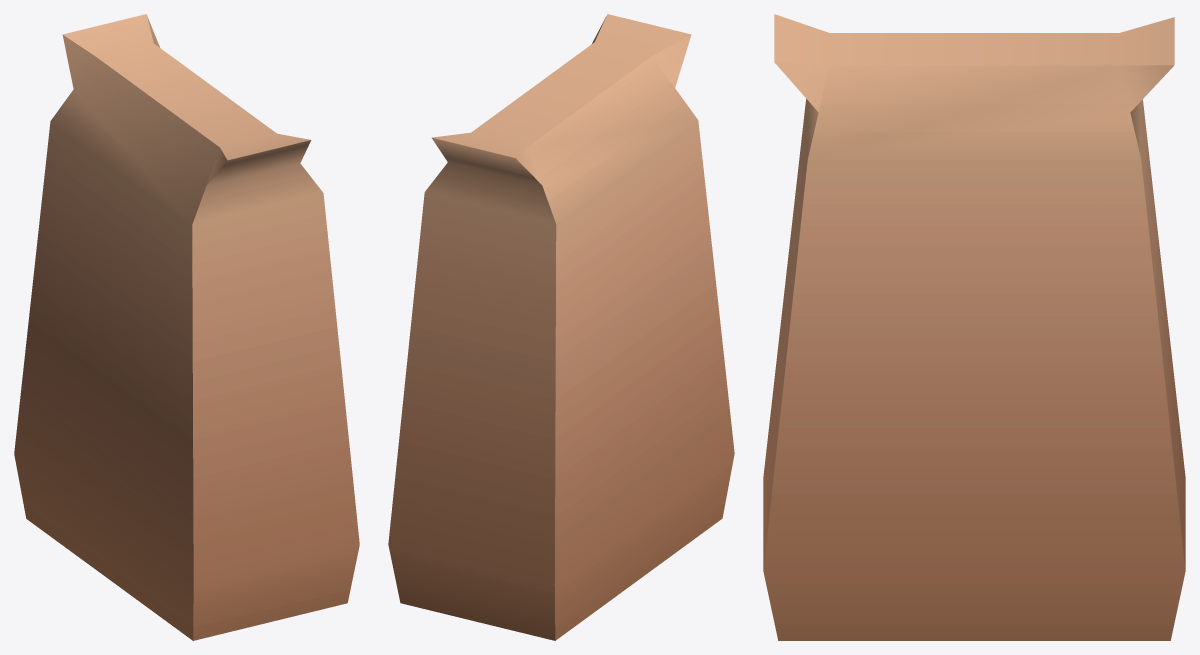
File: bag.cd2dd97ea1.glb
The picture shows the model from 3 angles, left to right: view 1: azimuth 30°, elevation 25°; view 2: azimuth 150°, elevation 25°; view 3: azimuth 270°, elevation 25°; orthographic projection. The views are drawn at different scales.
Parts seen in each view (by area): view 1: bag; view 2: bag; view 3: bag.
Boxes of the visible parts, x1,y1,x2,y2 form: bag: [14, 14, 359, 640]; bag: [388, 14, 734, 640]; bag: [763, 14, 1185, 640].
Size of the model in its own units: 0.2201 by 0.5998 by 0.4118.
Materials: 1 (1 with a texture image).
